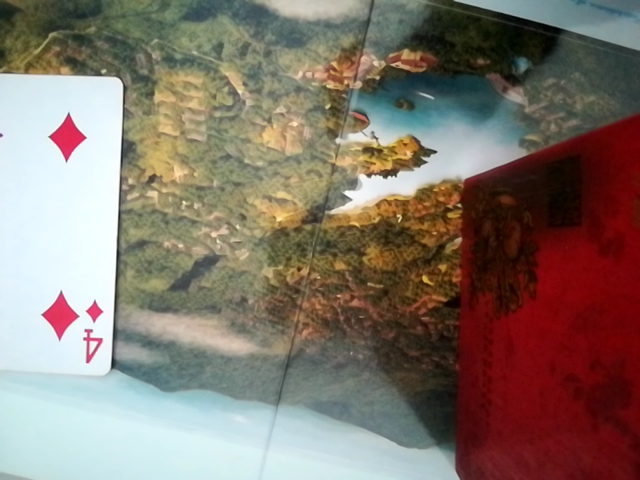fk 4: (2, 65, 121, 377)
